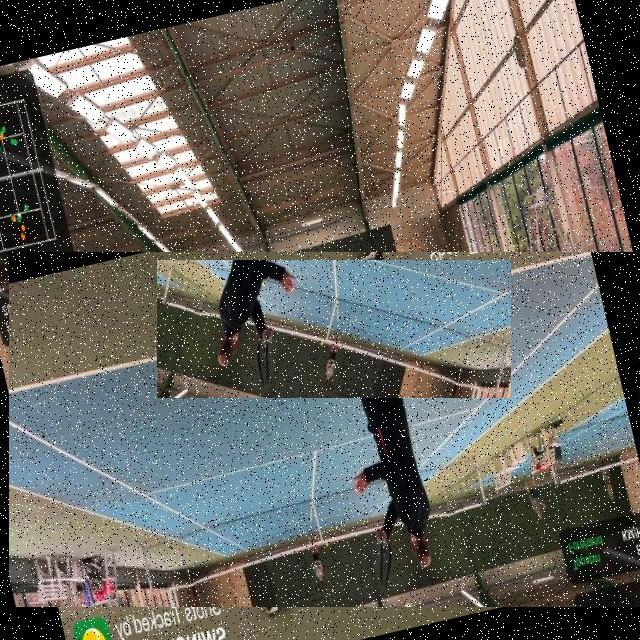court: (9, 252, 640, 607)
net: (157, 260, 511, 398)
player: (190, 264, 347, 617)
